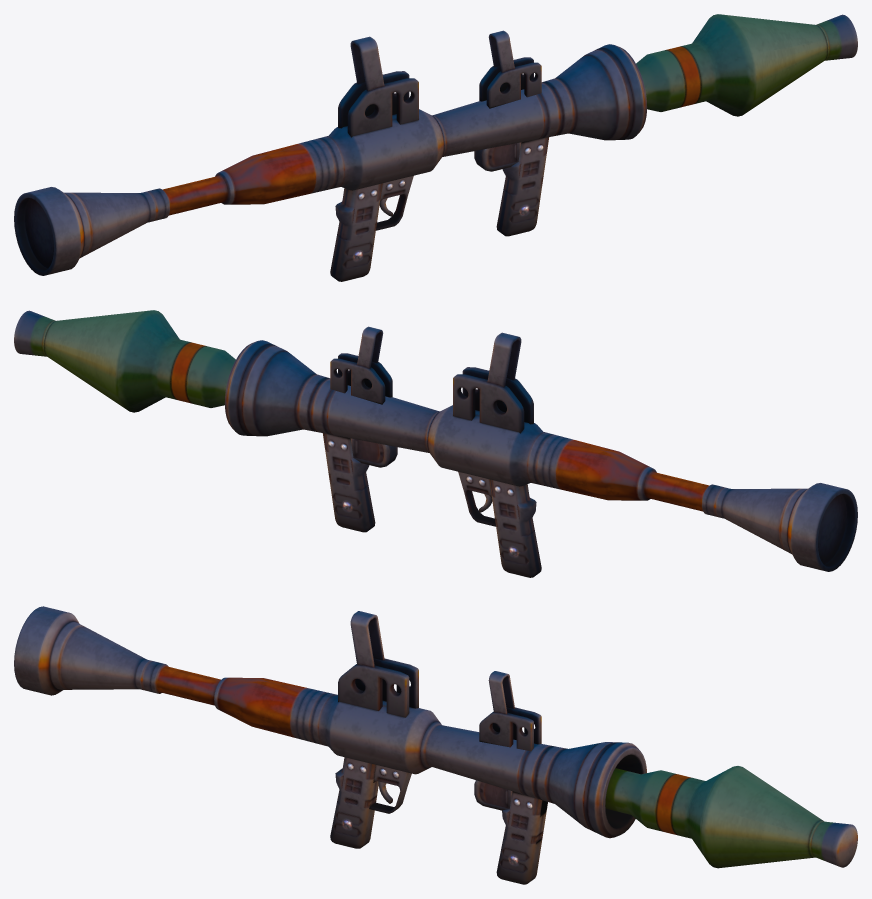
File: rocketlaucher.fbx
3 views of the same model, one above another, from view 1: azimuth 30°, elevation 25°; view 2: azimuth 150°, elevation 25°; view 3: azimuth 330°, elevation 25° (orthographic).
Parts seen in each view (by area): view 1: rocketlaucher, rocketbullet_low, rockethaut_low, rockethaut_low.001; view 2: rocketlaucher, rocketbullet_low, rockethaut_low, rockethaut_low.001; view 3: rocketlaucher, rocketbullet_low, rockethaut_low, rockethaut_low.001.
Boxes of the visible parts, left/top/right/bottom form: rocketlaucher: left=14, top=44, right=647, bottom=281; rocketbullet_low: left=636, top=14, right=857, bottom=116; rockethaut_low: left=338, top=36, right=418, bottom=137; rockethaut_low.001: left=479, top=30, right=541, bottom=108; rocketlaucher: left=224, top=340, right=857, bottom=577; rocketbullet_low: left=14, top=310, right=235, bottom=412; rockethaut_low: left=453, top=332, right=533, bottom=433; rockethaut_low.001: left=330, top=326, right=392, bottom=404; rocketlaucher: left=14, top=606, right=646, bottom=884; rocketbullet_low: left=605, top=766, right=857, bottom=868; rockethaut_low: left=338, top=611, right=418, bottom=717; rockethaut_low.001: left=479, top=671, right=541, bottom=751.
Size of the model in its own units: 1.18 by 0.3224 by 0.1317.
